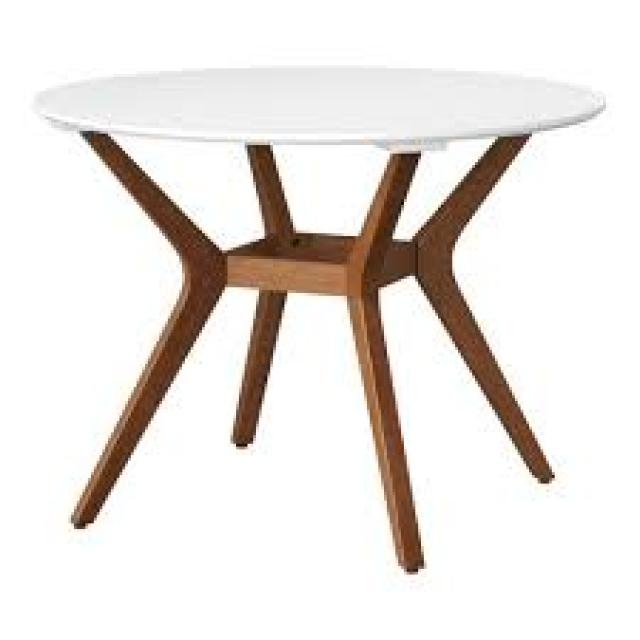obstacle: (22, 24, 615, 624)
